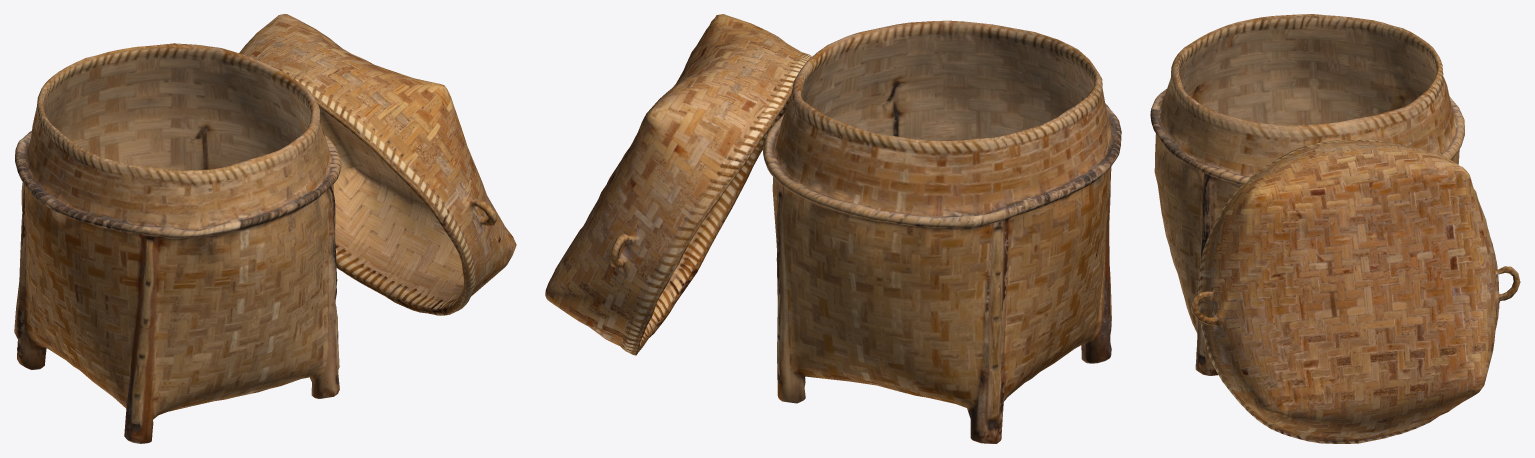
File: wicker_basket_02_1k.gltf
3 views of the same model, side by side, from view 1: azimuth 30°, elevation 25°; view 2: azimuth 150°, elevation 25°; view 3: azimuth 270°, elevation 25° (orthographic). The views are drawn at different scales.
Parts seen in each view (by area): view 1: wicker_basket_02_base, wicker_basket_02_lid; view 2: wicker_basket_02_base, wicker_basket_02_lid; view 3: wicker_basket_02_lid, wicker_basket_02_base.
Part boxes in pixels (bbox=[...]): wicker_basket_02_base: bbox=[14, 43, 341, 443]; wicker_basket_02_lid: bbox=[239, 14, 516, 315]; wicker_basket_02_base: bbox=[763, 20, 1121, 443]; wicker_basket_02_lid: bbox=[545, 14, 812, 355]; wicker_basket_02_lid: bbox=[1190, 140, 1520, 443]; wicker_basket_02_base: bbox=[1150, 14, 1464, 375].
Size of the model in its own units: 0.3469 by 0.2005 by 0.2544.
Materials: 1 (1 with a texture image).
